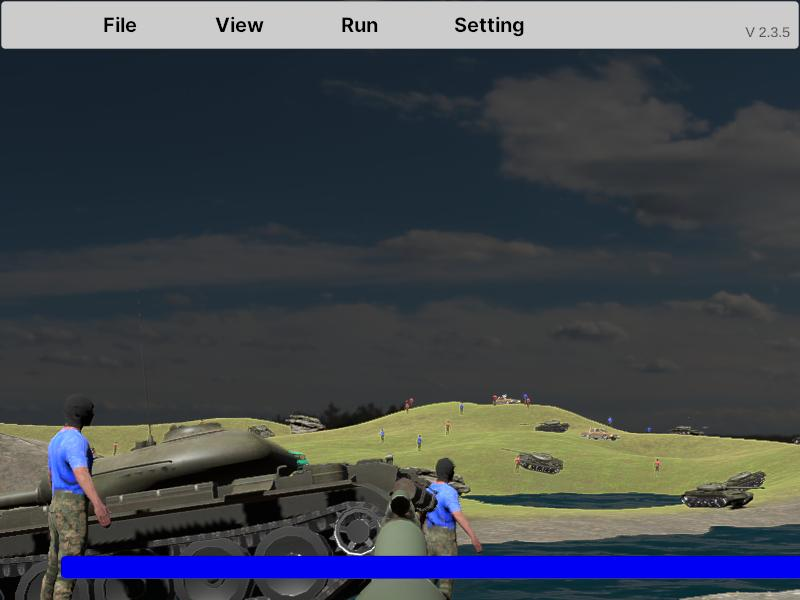Human: (42, 392, 114, 600), (417, 453, 481, 599)
Tank: (4, 421, 478, 600), (0, 460, 128, 600), (681, 482, 764, 509), (501, 448, 565, 475)
car: (583, 427, 619, 442)
